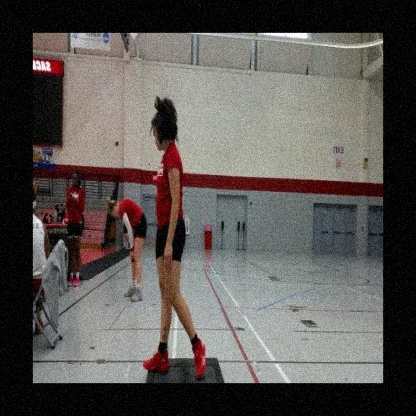lateral_flexion_left: (141, 92, 207, 383)
stance_width_broad: (142, 137, 207, 383)
